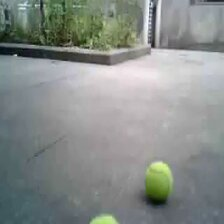tennis: (144, 161, 172, 201)
